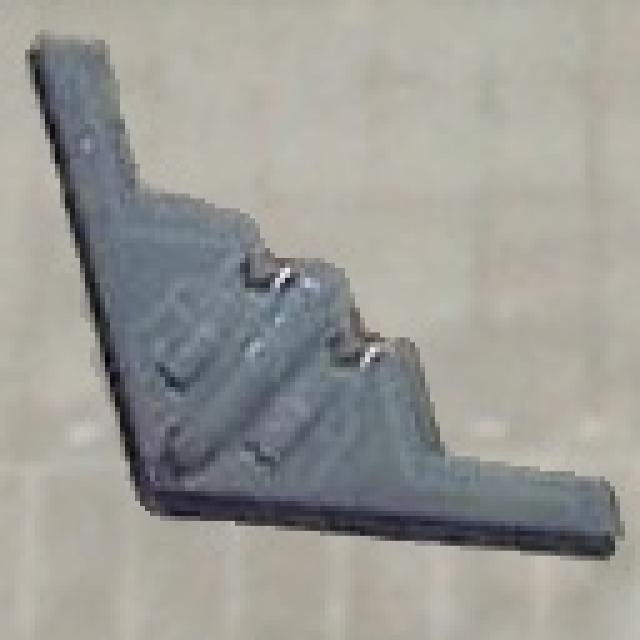B-2_TopDown: (20, 24, 625, 560)
